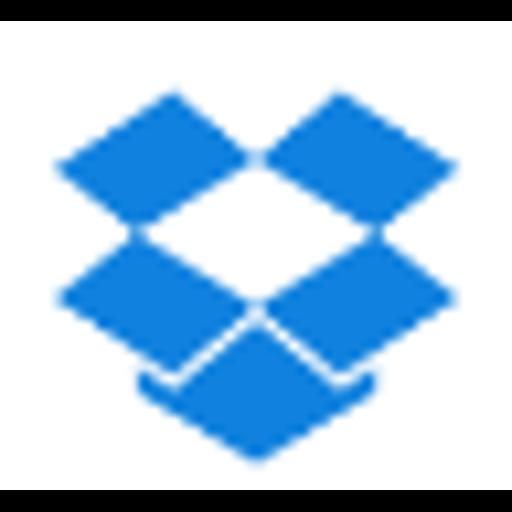Dropbox: (0, 21, 512, 490)
